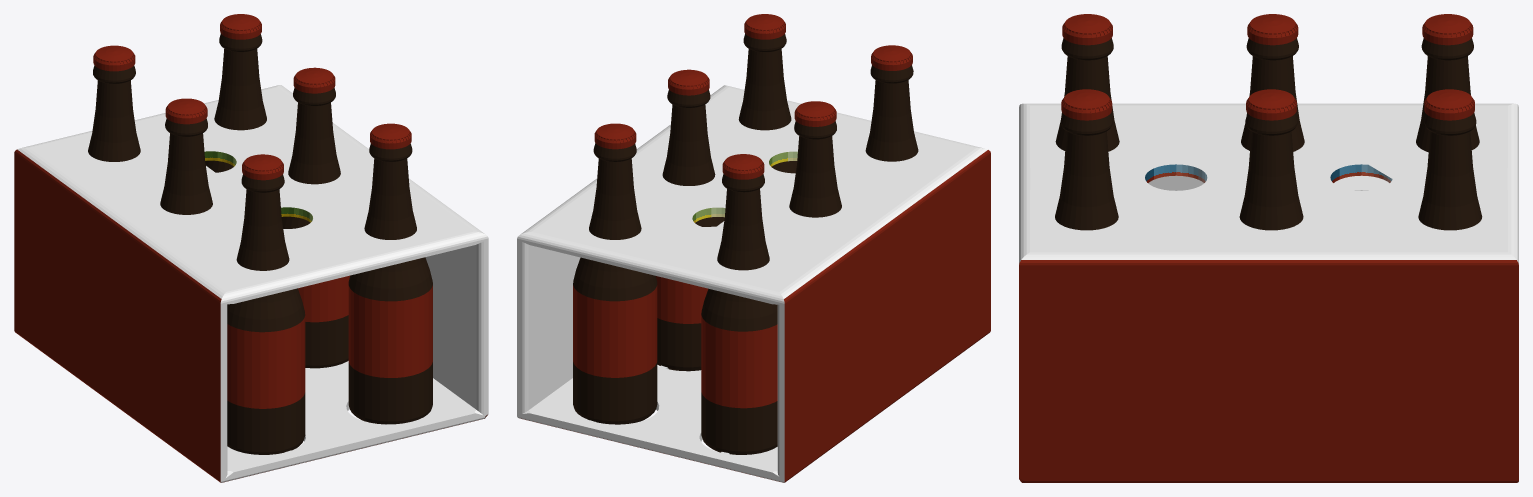
The model's file is Bier.fbx.
3 views of the same model, side by side, from view 1: azimuth 30°, elevation 25°; view 2: azimuth 150°, elevation 25°; view 3: azimuth 270°, elevation 25° (orthographic). The views are drawn at different scales.
Visible parts, largest first — view 1: Cube; view 2: Cube; view 3: Cube.
Part boxes in pixels (x1,y1,x2,y2): Cube: (14,14,488,482); Cube: (517,14,990,482); Cube: (1019,14,1518,482).
Bounding box in the file's own units: 600 × 613 × 800.
